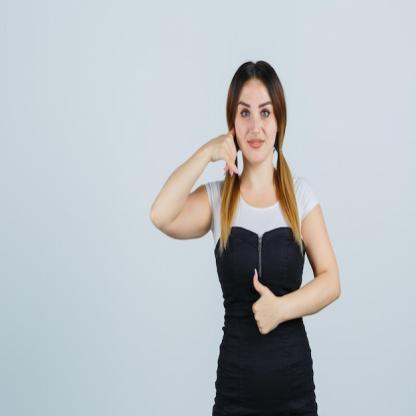thumb_up: (249, 266, 284, 336)
